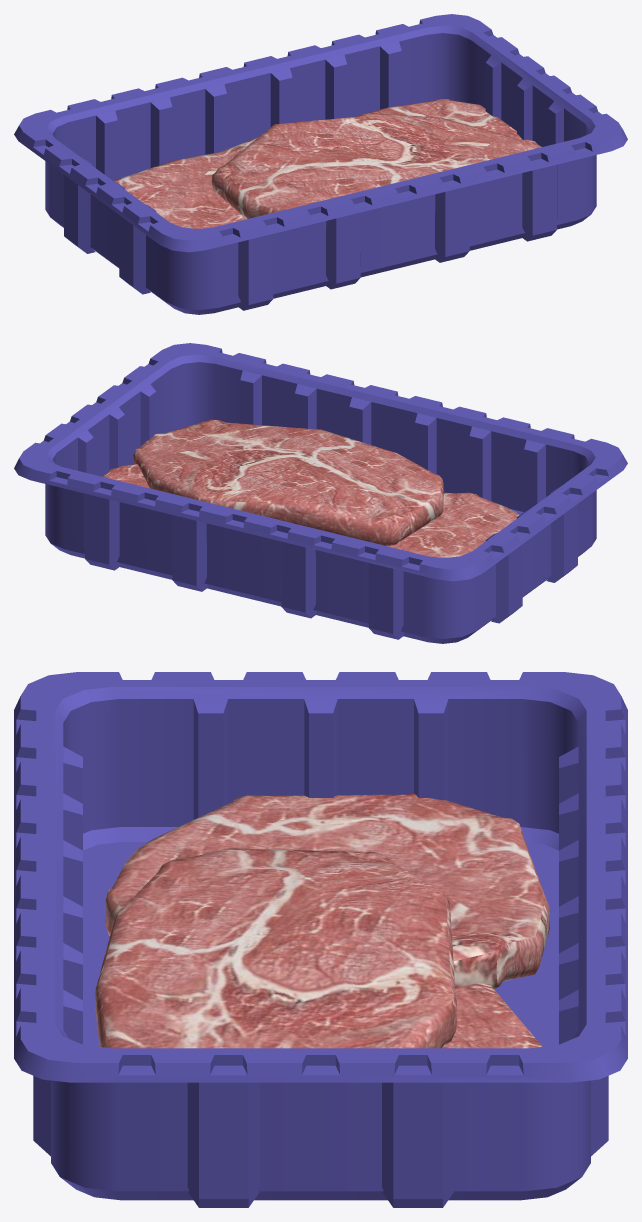
The model's file is Steak.glb.
3 views of the same model, one above another, from view 1: azimuth 30°, elevation 25°; view 2: azimuth 150°, elevation 25°; view 3: azimuth 270°, elevation 25° (orthographic). The views are drawn at different scales.
Parts seen in each view (by area): view 1: SteakTray, Steak.004; view 2: SteakTray, Steak.004; view 3: SteakTray, Steak.004.
Part boxes in pixels (bbox=[...]): SteakTray: bbox=[14, 14, 627, 314]; Steak.004: bbox=[114, 99, 541, 228]; SteakTray: bbox=[14, 343, 627, 643]; Steak.004: bbox=[102, 419, 519, 557]; SteakTray: bbox=[14, 672, 627, 1207]; Steak.004: bbox=[95, 793, 549, 1048].
Size of the model in its own units: 0.2476 by 0.046 by 0.1619.
Materials: 2 (2 with a texture image).
